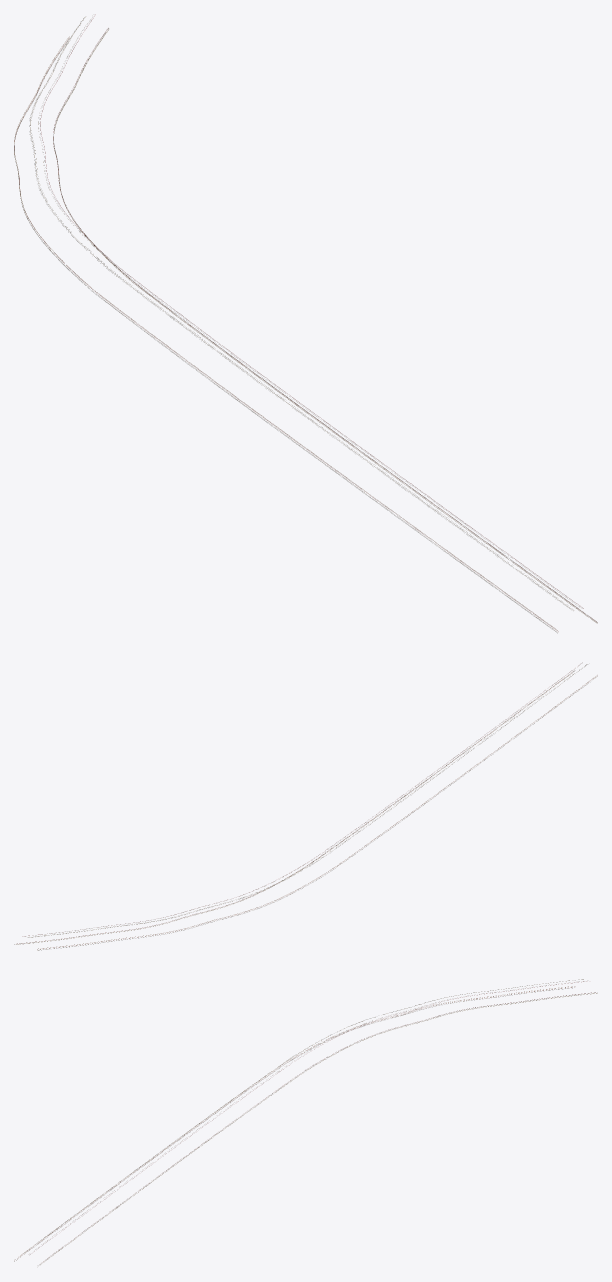
3 views of the same model, one above another, from view 1: azimuth 30°, elevation 25°; view 2: azimuth 150°, elevation 25°; view 3: azimuth 330°, elevation 25° (orthographic). The views are drawn at different scales.
Visible parts, largest first — view 1: 线网1; view 2: 线网1; view 3: 线网1.
Part boxes in pixels (bbox=[...]): 线网1: bbox=[14, 14, 597, 633]; 线网1: bbox=[14, 662, 597, 950]; 线网1: bbox=[14, 979, 597, 1265].
Size of the model in its own units: 67.35 by 4.42 by 300.
